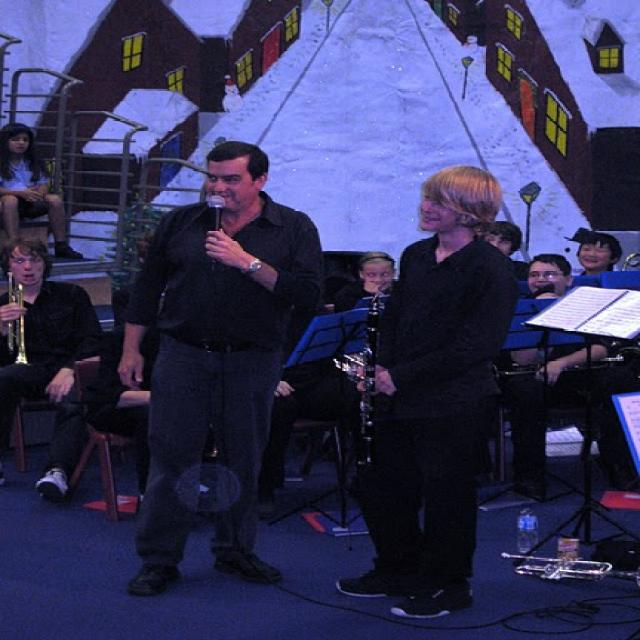clarinet: (347, 284, 397, 473)
